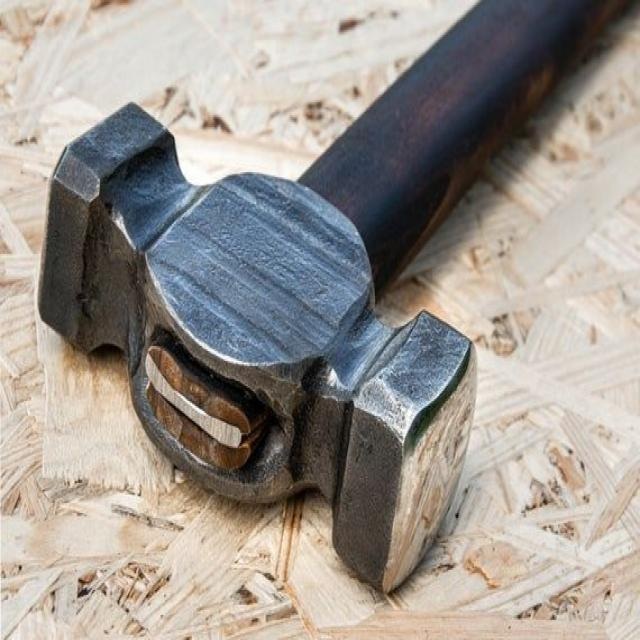hammer: (30, 0, 636, 605)
